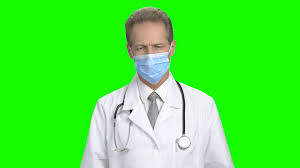masked: (121, 10, 180, 81)
